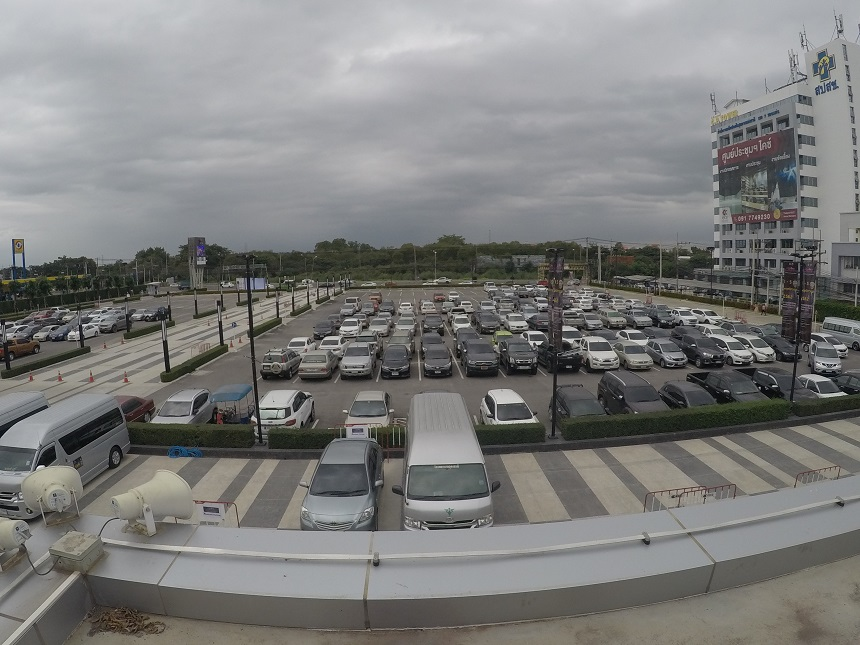busy: (399, 459, 497, 522), (299, 463, 381, 527), (20, 434, 84, 469), (256, 397, 310, 427), (415, 389, 461, 421), (344, 397, 394, 426), (614, 380, 659, 411), (480, 394, 528, 419), (170, 393, 207, 421), (559, 393, 606, 415), (377, 354, 415, 380), (714, 376, 754, 399), (123, 392, 154, 419), (669, 383, 704, 406), (767, 372, 799, 397), (340, 356, 372, 379), (463, 355, 498, 375), (261, 354, 291, 376), (506, 353, 537, 374), (423, 358, 456, 377), (549, 354, 581, 372), (586, 354, 618, 371), (300, 357, 328, 376), (695, 349, 724, 367), (625, 353, 655, 370), (807, 377, 833, 395), (728, 349, 755, 366), (661, 351, 687, 368), (841, 372, 860, 391), (827, 341, 848, 358), (1, 400, 20, 415), (781, 347, 801, 360), (840, 322, 858, 336), (759, 348, 774, 362)
